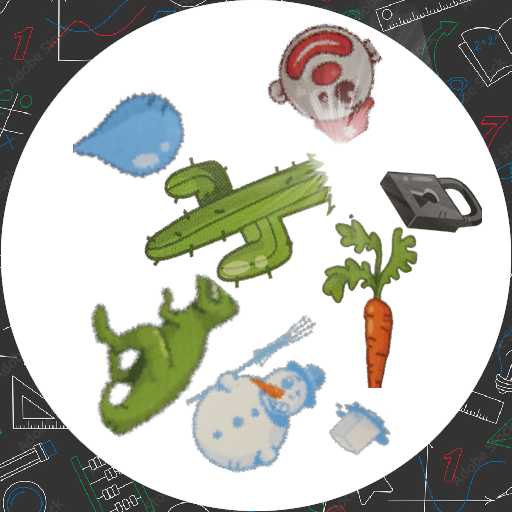cactus_icon: (137, 113, 348, 324)
carrot_icon: (294, 209, 473, 388)
clown_icon: (265, 23, 387, 145)
cube_icon: (320, 396, 392, 468)
dino_icon: (77, 270, 259, 452)
lock_icon: (380, 148, 482, 250)
raindrop_icon: (73, 79, 187, 193)
snowman_icon: (173, 303, 346, 476)
